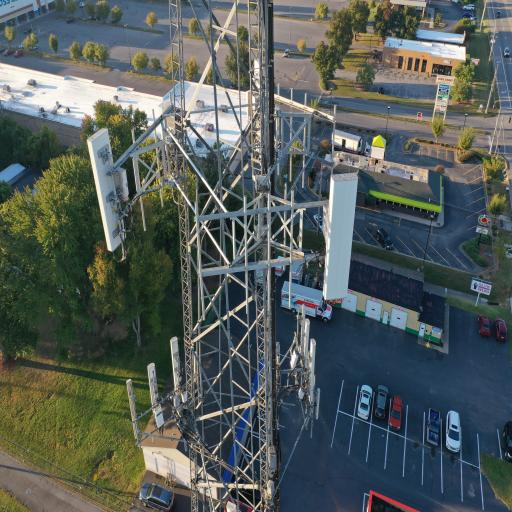supporting_tower: (84, 0, 316, 512)
